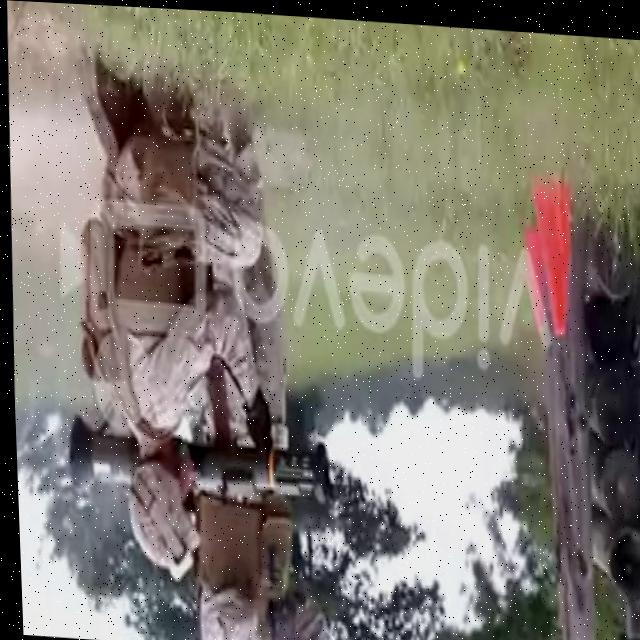rocket: (66, 410, 329, 508)
